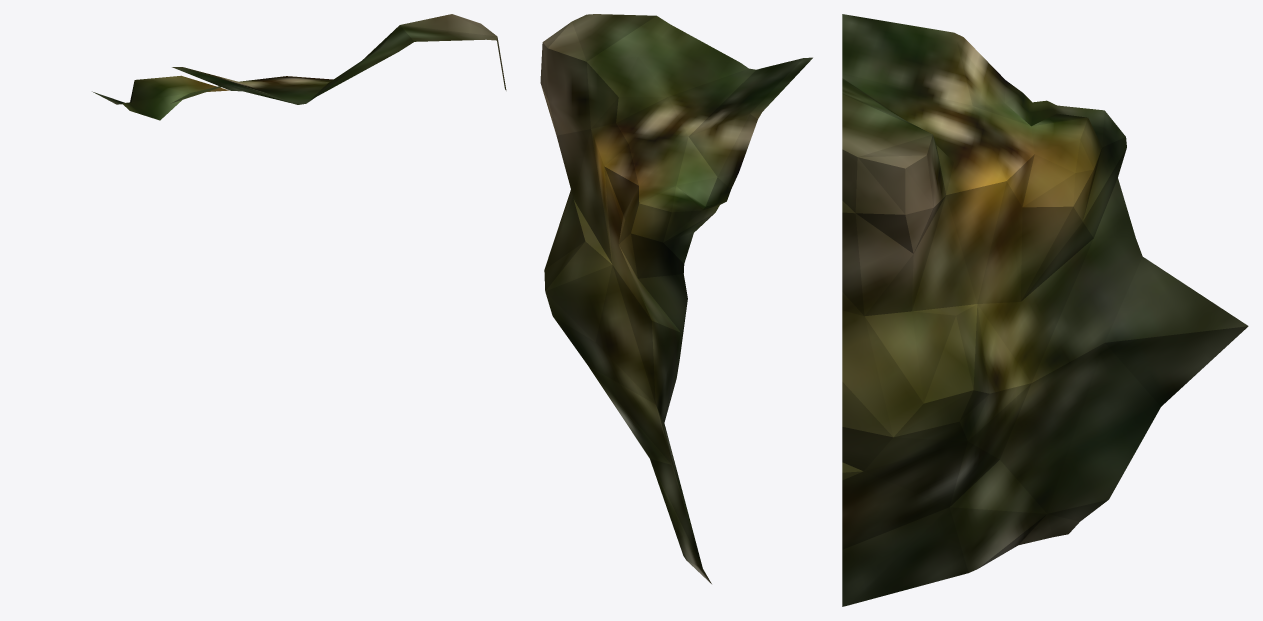
The picture shows the model from 3 angles, left to right: view 1: azimuth 30°, elevation 25°; view 2: azimuth 150°, elevation 25°; view 3: azimuth 270°, elevation 25°; orthographic projection. The views are drawn at different scales.
Size of the model in its own units: 0.2681 by 0.5009 by 0.352.
1 material, 1 textured.
